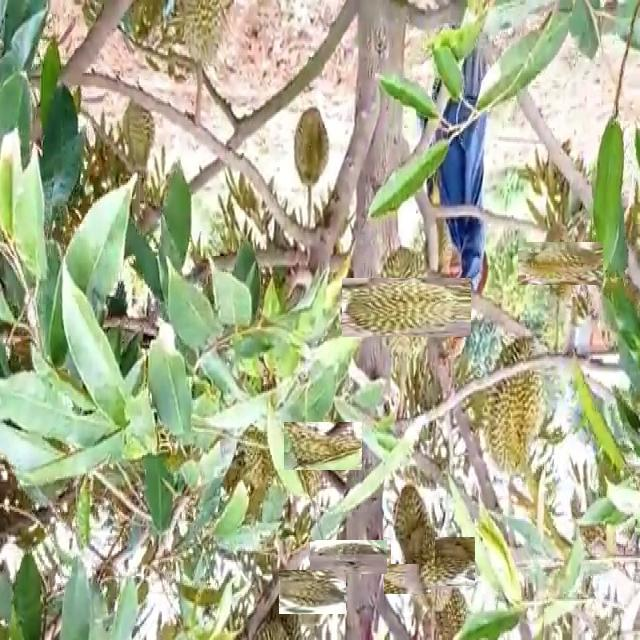durian: (484, 328, 547, 484), (358, 260, 454, 355), (392, 528, 467, 603), (274, 409, 349, 484), (174, 2, 238, 72), (528, 231, 593, 295), (290, 98, 334, 191), (390, 477, 434, 564), (236, 418, 284, 496), (119, 86, 157, 180), (321, 529, 377, 585), (285, 564, 341, 620), (431, 586, 477, 638)
